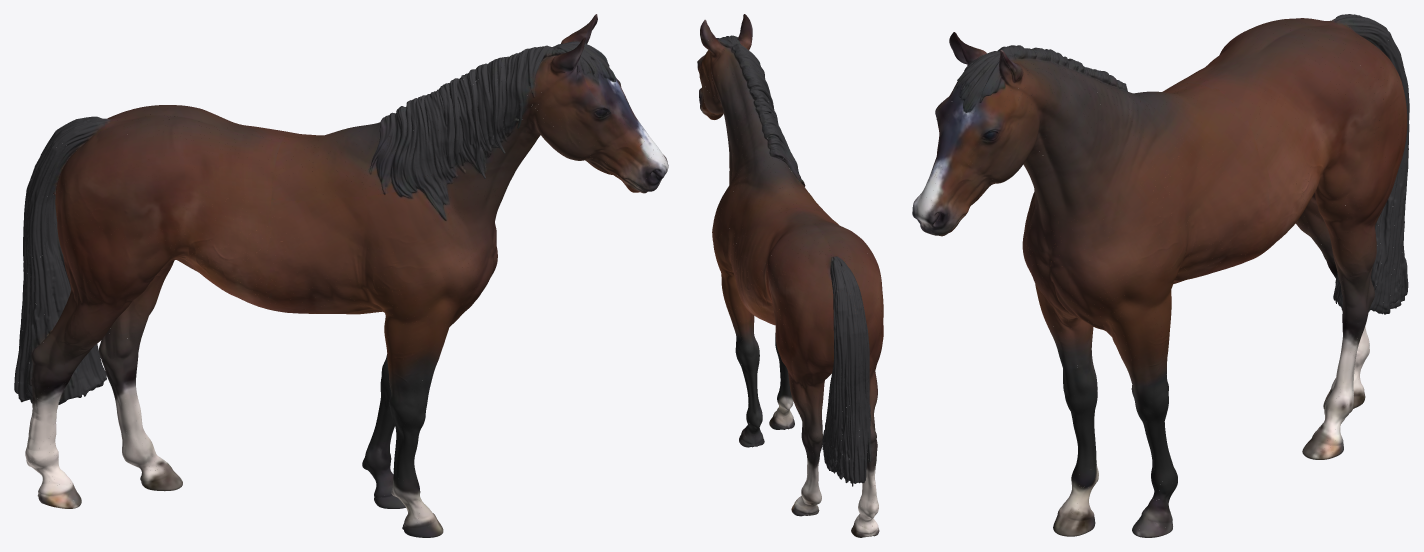
Rendered from horse-transformed.glb.
The picture shows the model from 3 angles, left to right: view 1: azimuth 30°, elevation 25°; view 2: azimuth 150°, elevation 25°; view 3: azimuth 270°, elevation 25°; orthographic projection. The views are drawn at different scales.
Visible parts, largest first — view 1: 1801005 - Ping Pong; view 2: 1801005 - Ping Pong; view 3: 1801005 - Ping Pong.
Part boxes in pixels (box(x1,y1,x2,y2)): 1801005 - Ping Pong: box(14, 14, 668, 537); 1801005 - Ping Pong: box(697, 14, 883, 537); 1801005 - Ping Pong: box(912, 14, 1409, 537).
Size of the model in its own units: 113 by 125 by 101.
Materials: 1 (1 with a texture image).
